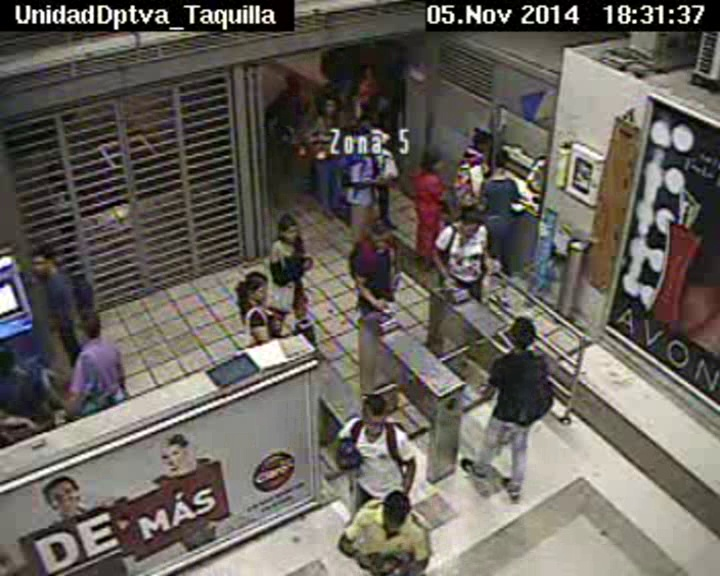person: (378, 488, 414, 528), (359, 394, 391, 437), (505, 316, 537, 352), (240, 268, 270, 301), (75, 310, 106, 341), (456, 208, 485, 240), (28, 244, 57, 275), (364, 217, 392, 246), (276, 213, 303, 243), (1, 344, 26, 373), (419, 146, 444, 172), (468, 126, 490, 154), (280, 74, 307, 95), (319, 95, 341, 118), (491, 150, 512, 172), (355, 134, 375, 154), (363, 61, 381, 83)
